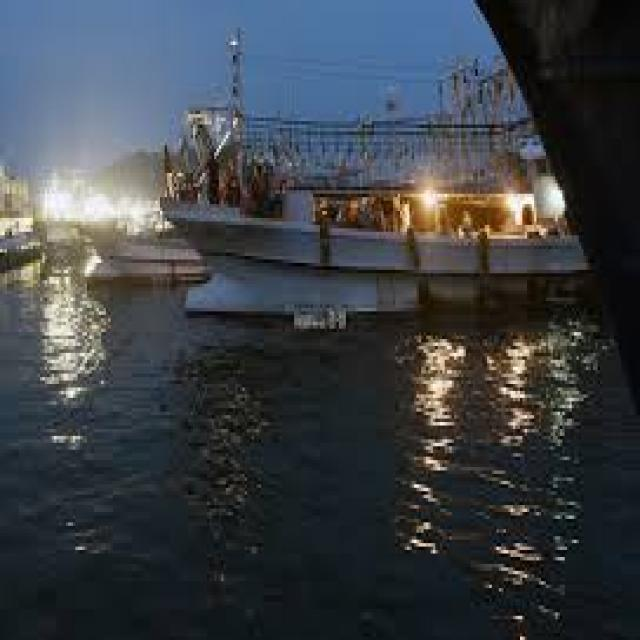Ship: (154, 22, 611, 361)
